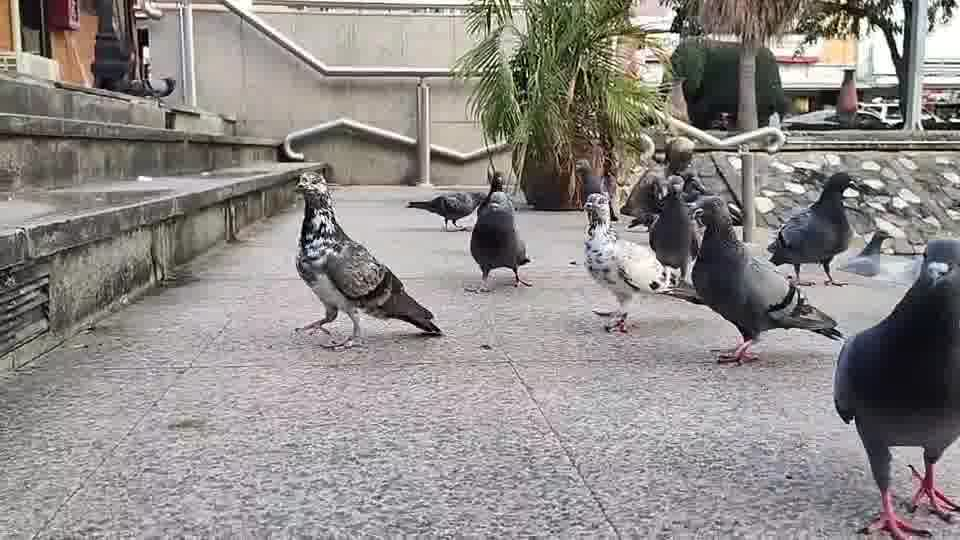Pigeon: (832, 237, 959, 539), (666, 194, 845, 367), (291, 169, 443, 350), (581, 191, 670, 334), (766, 171, 859, 287), (465, 167, 533, 292), (647, 174, 705, 291), (405, 190, 485, 231), (837, 228, 894, 276)
